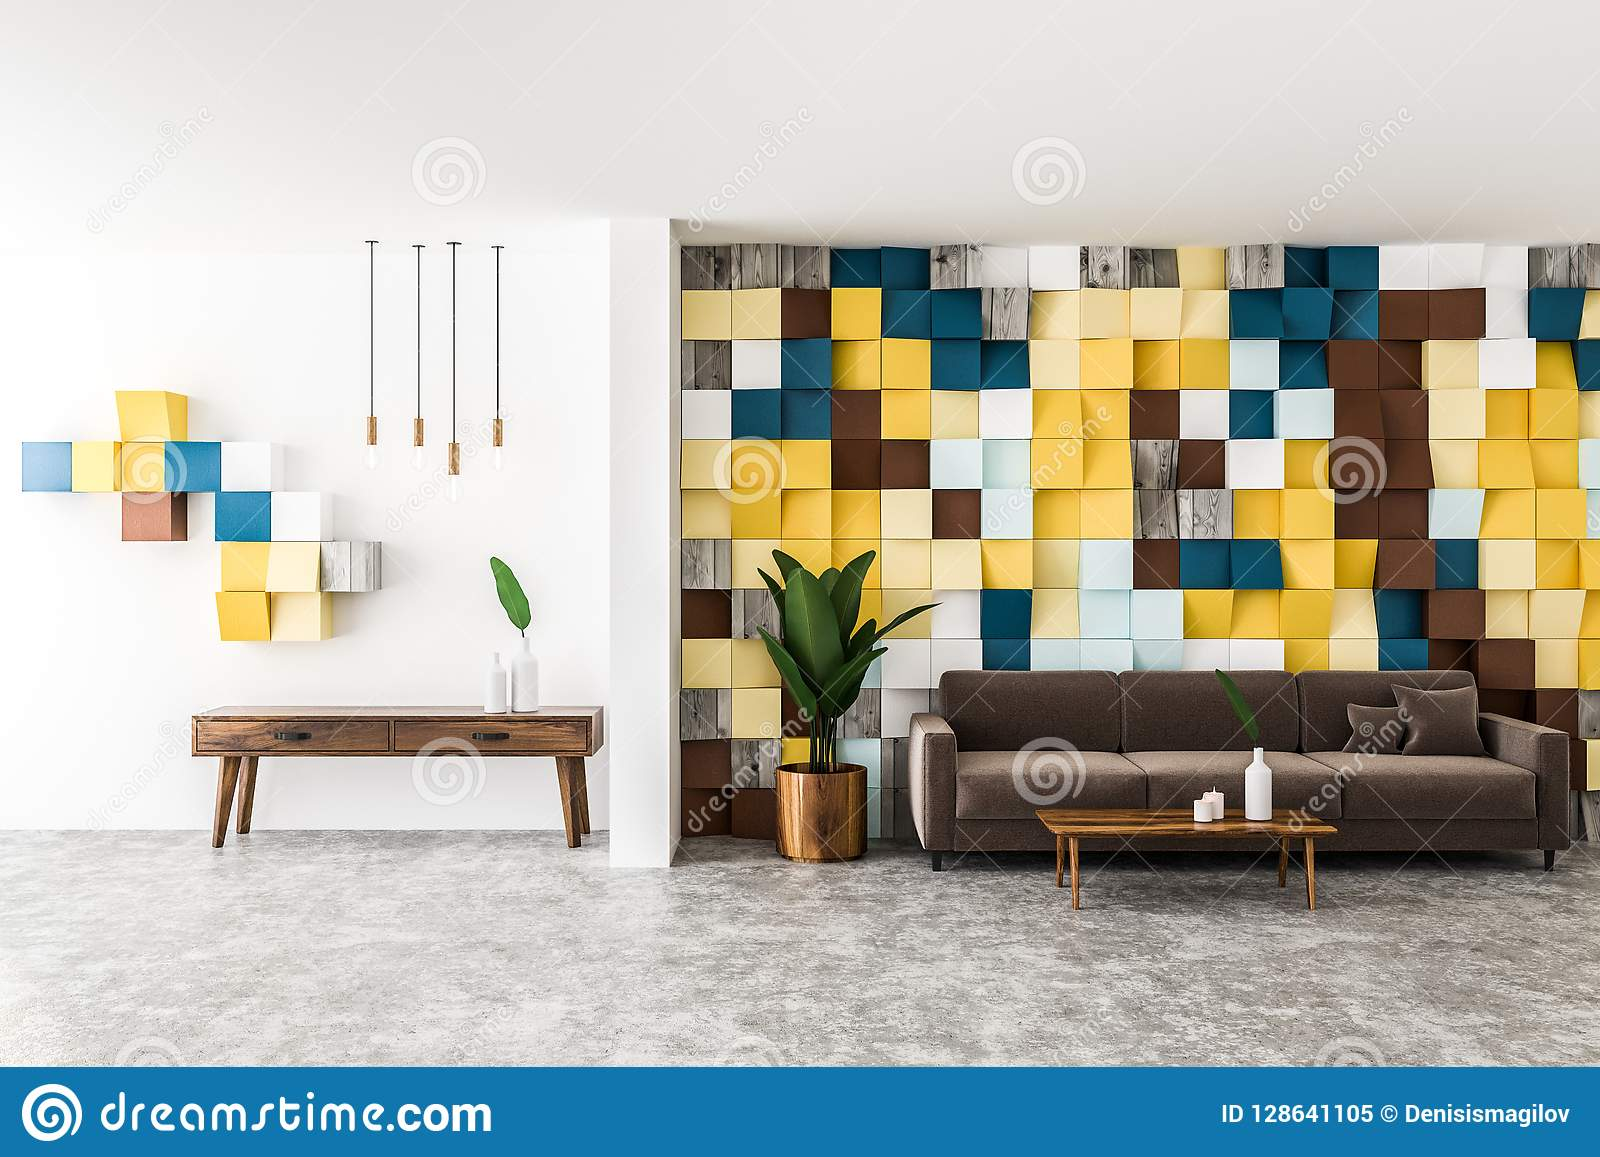coklat: (907, 672, 1576, 846), (190, 710, 604, 761), (771, 764, 872, 862), (1039, 808, 1337, 838)
putih: (1243, 751, 1276, 820), (511, 636, 539, 713), (480, 654, 507, 713), (1193, 793, 1226, 820)
